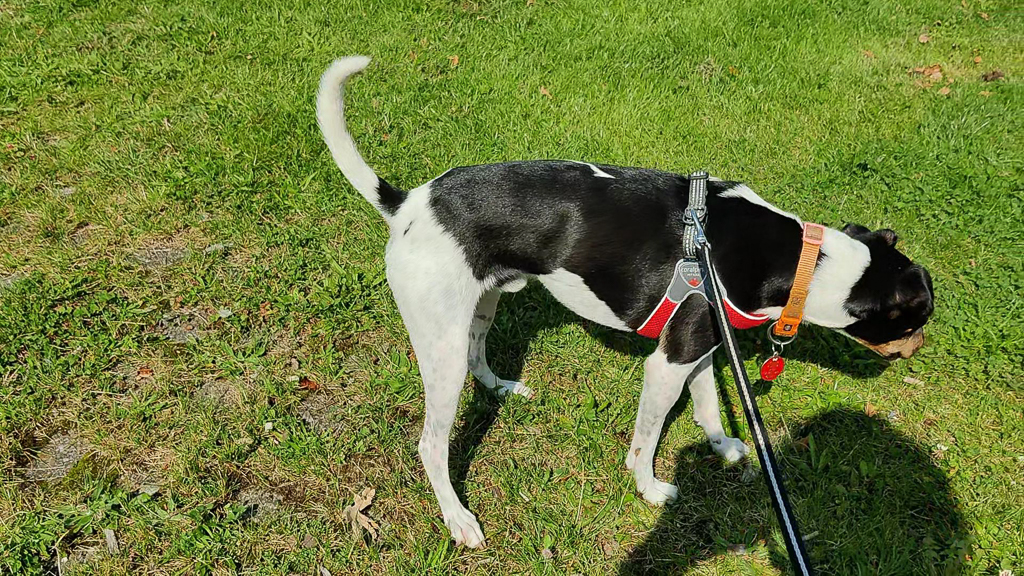Dog: (310, 45, 952, 560)
